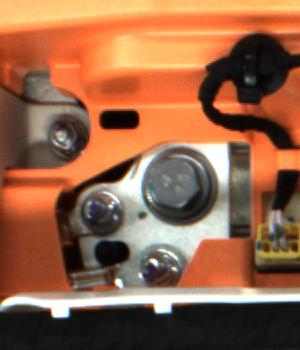nut_b: (141, 146, 216, 230)
screw_s: (138, 245, 190, 291), (79, 184, 125, 233), (41, 115, 85, 152)
